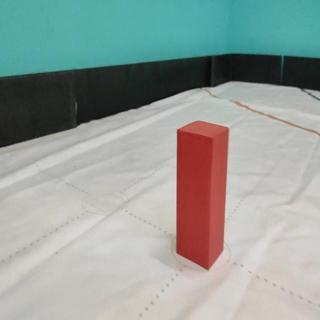redbox: (175, 118, 229, 269)
